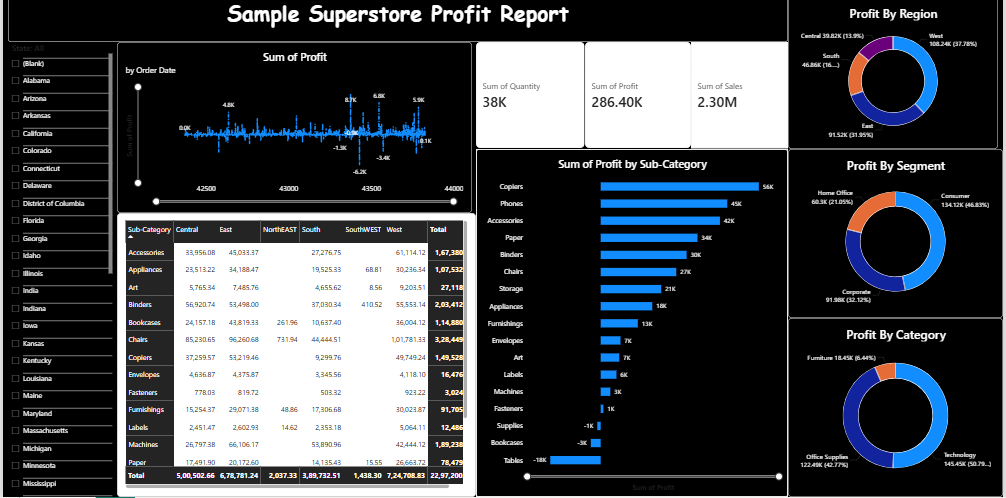

The dashboard page shown, as its layout file describes it:
{"tool":"powerbi","page":{"name":"Page 1","canvas":[2000,1000],"ordinal":0},"visuals":[{"type":"textbox","box":[10,0,1560,90],"z":0},{"type":"donutChart","title":"Profit By Category","fields":{"Category":["Orders.Category"],"Y":["Sum(Orders.Profit)"]},"box":[1570,642,430,358],"z":1000},{"type":"donutChart","title":"Profit By Segment","fields":{"Category":["Orders.Segment"],"Y":["Sum(Orders.Profit)"]},"box":[1570,304,430,338],"z":2000},{"type":"donutChart","title":"Profit By Region","fields":{"Category":["Orders.Region"],"Y":["Sum(Orders.Profit)"]},"box":[1570,0,420,304],"z":3000},{"type":"barChart","fields":{"Category":["Orders.Sub-Category"],"Y":["Sum(Orders.Profit)"]},"box":[946.2,303.2,623.7,696.8],"z":4000},{"type":"lineChart","fields":{"Category":["Orders.Order Date"],"Y":["Sum(Orders.Profit)"]},"box":[228,90.3,709.7,341.9],"z":5000},{"type":"pivotTable","fields":{"Columns":["Orders.Region"],"Rows":["Orders.Sub-Category"],"Values":["Sum(Orders.Sales)"]},"box":[228,432.3,718.3,567.7],"z":6000},{"type":"cardVisual","fields":{"Data":["Sum(Orders.Sales)"]},"box":[1376.3,90.3,193.5,212.9],"z":7000},{"type":"cardVisual","fields":{"Data":["Sum(Orders.Profit)"]},"box":[1163.4,90.3,212.9,212.9],"z":8000},{"type":"cardVisual","fields":{"Data":["Sum(Orders.Quantity)"]},"box":[946.2,90.3,217.2,212.9],"z":9000},{"type":"slicer","fields":{"Values":["Orders.State"]},"box":[10.8,90.3,208.6,909.7],"z":10000}]}

Visuals, with their boxes in screenshot pixels (x1, y1, x2, y2), scaled from the page's 2000x1000 canvas onto the 1006x498 screenshot:
textbox: box(5, 0, 790, 45)
"Profit By Category" donutChart: box(790, 320, 1005, 497)
"Profit By Segment" donutChart: box(790, 151, 1005, 320)
"Profit By Region" donutChart: box(790, 0, 1001, 151)
barChart - Orders.Sub-Category x Sum(Orders.Profit): box(476, 151, 790, 497)
lineChart - Orders.Order Date x Sum(Orders.Profit): box(115, 45, 472, 215)
pivotTable - Orders.Region x Orders.Sub-Category: box(115, 215, 476, 497)
cardVisual - Sum(Orders.Sales): box(692, 45, 790, 151)
cardVisual - Sum(Orders.Profit): box(585, 45, 692, 151)
cardVisual - Sum(Orders.Quantity): box(476, 45, 585, 151)
slicer - Orders.State: box(5, 45, 110, 497)
